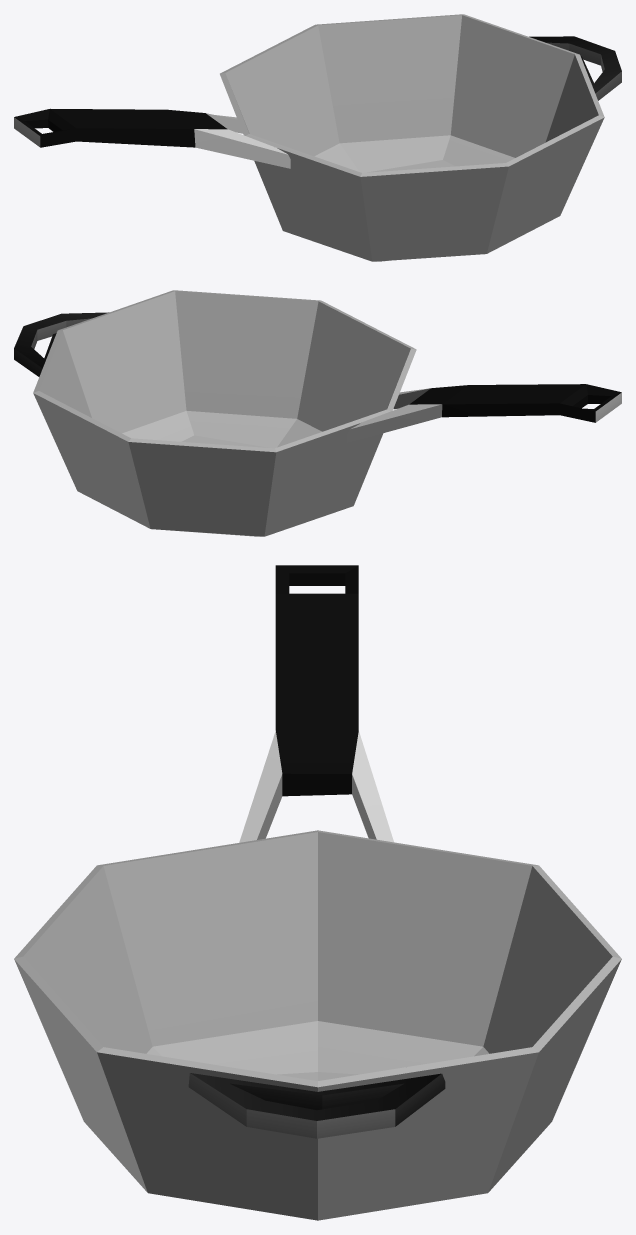
File: FryingPan#1Model.fbx
3 views of the same model, one above another, from view 1: azimuth 30°, elevation 25°; view 2: azimuth 150°, elevation 25°; view 3: azimuth 270°, elevation 25° (orthographic). The views are drawn at different scales.
Parts seen in each view (by area): view 1: FryingPan#1Model; view 2: FryingPan#1Model; view 3: FryingPan#1Model.
Boxes of the visible parts, box(x1,y1,x2,y2) form: FryingPan#1Model: box(14, 14, 621, 261); FryingPan#1Model: box(14, 290, 621, 536); FryingPan#1Model: box(14, 565, 621, 1220).
Bounding box in the file's own units: 105 × 31.94 × 59.7.
